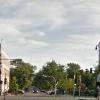Tree: (26, 53, 88, 89)
